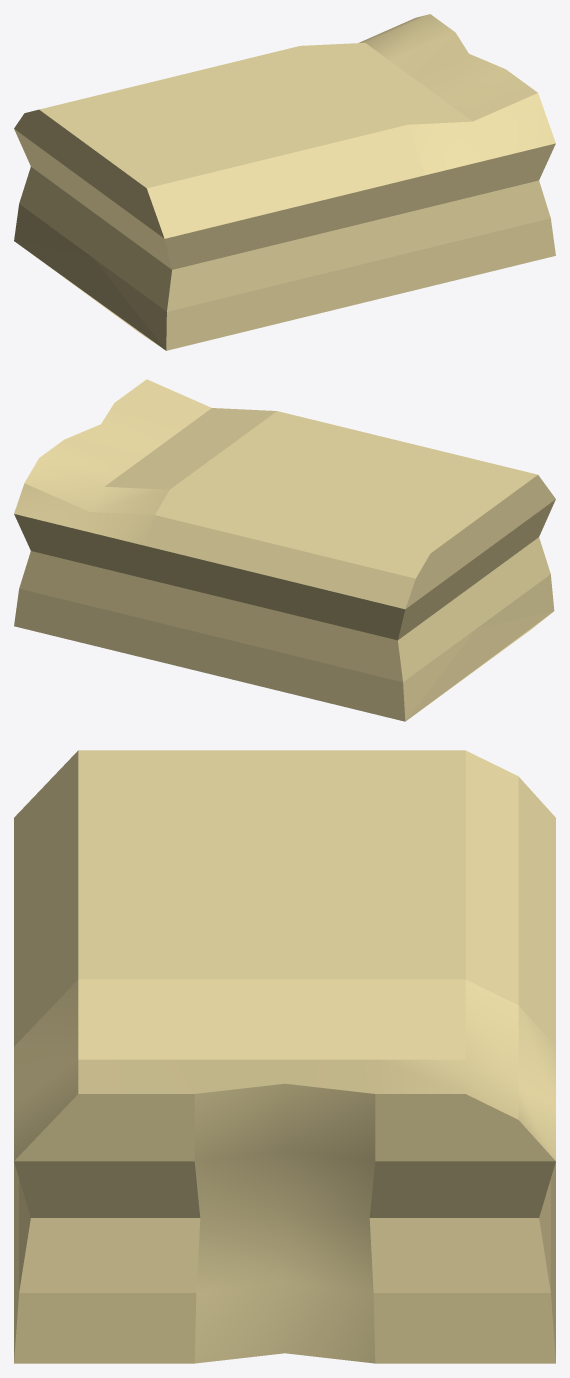
Rendered from Rubble 4.fbx.
3 renders of one model, top to bottom at view 1: azimuth 30°, elevation 25°; view 2: azimuth 150°, elevation 25°; view 3: azimuth 270°, elevation 25°, orthographic. The views are drawn at different scales.
Visible parts, largest first — view 1: Rubble 4; view 2: Rubble 4; view 3: Rubble 4.
Part boxes in pixels (x1=…): Rubble 4: x1=14, y1=14, x2=555, y2=350; Rubble 4: x1=14, y1=379, x2=555, y2=721; Rubble 4: x1=14, y1=750, x2=555, y2=1363.
Size of the model in its own units: 30 by 10.98 by 20.
Materials: 1 (1 with a texture image).
